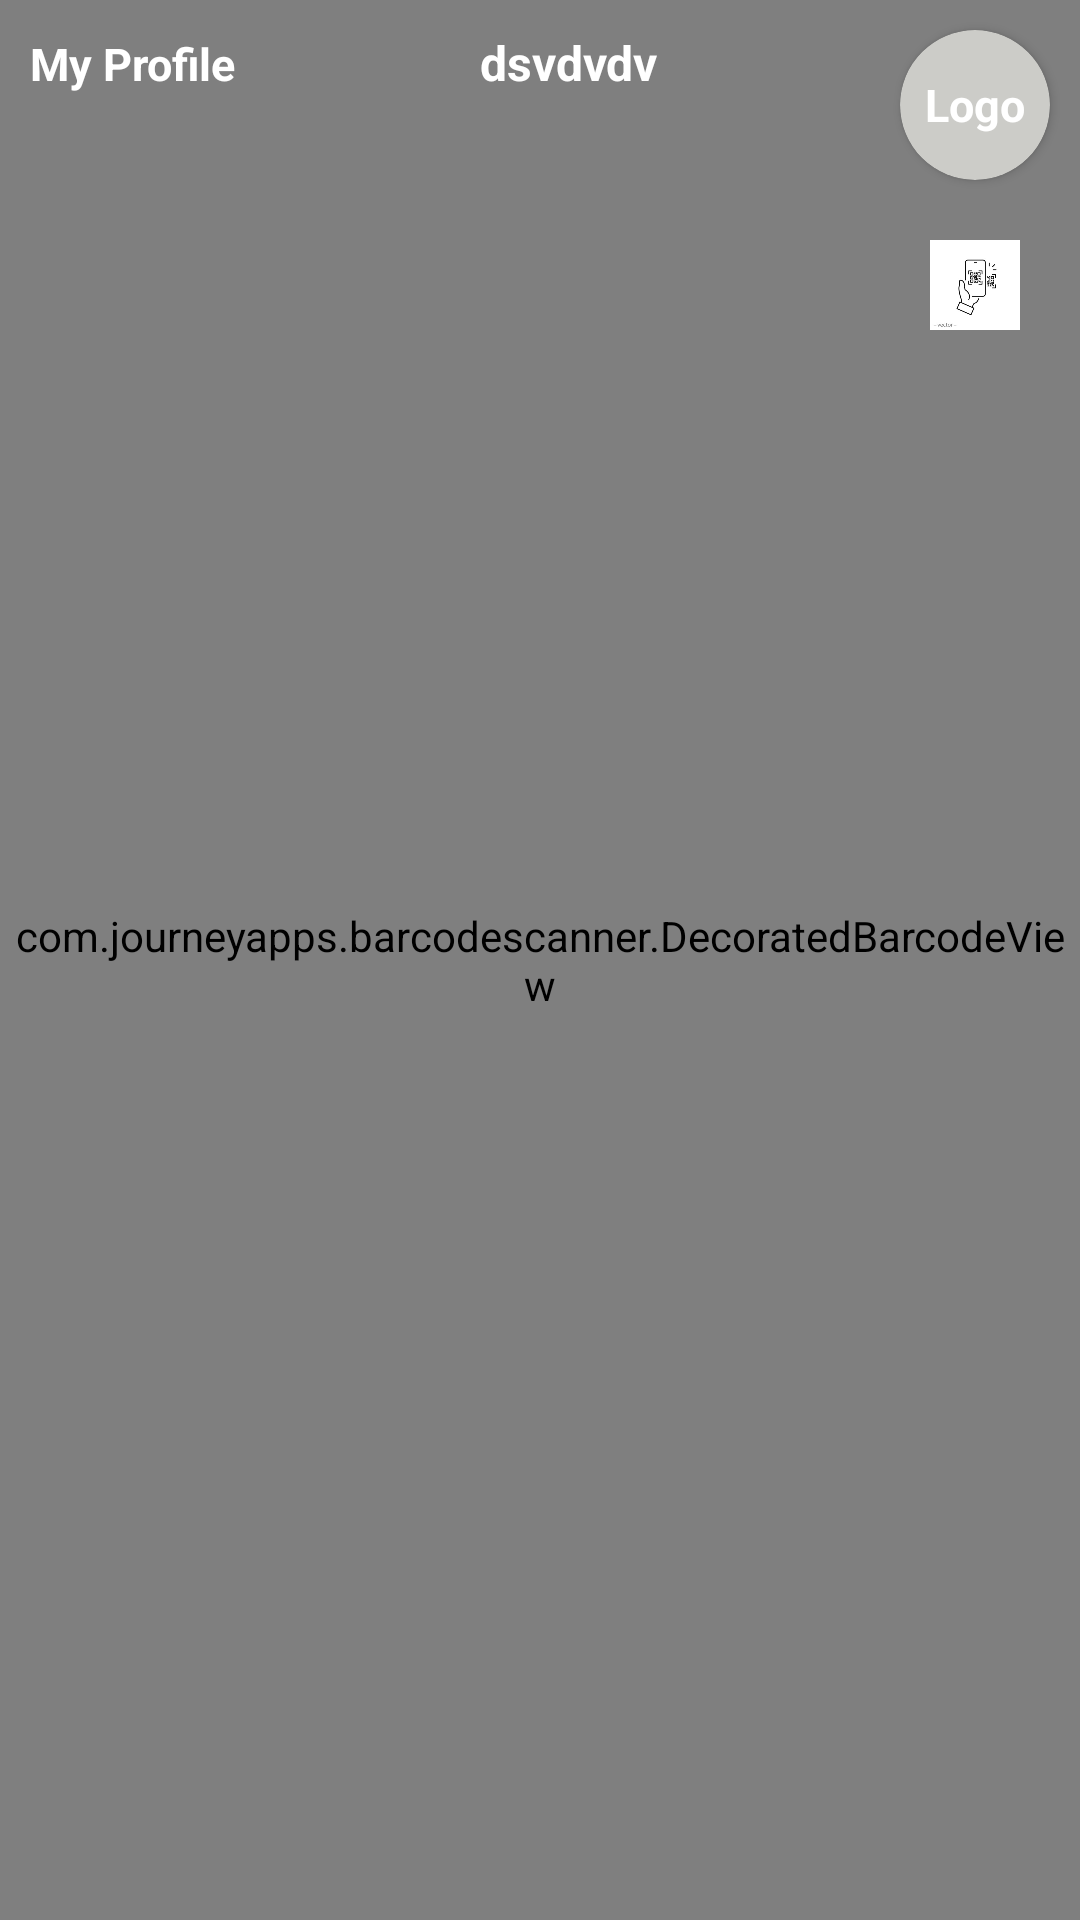

Named icons in this screenshot (1080 x 1920) and their bounding boxes, box=[x1, y1, x2, y2]:
qr iv: box=[930, 240, 1020, 330]
